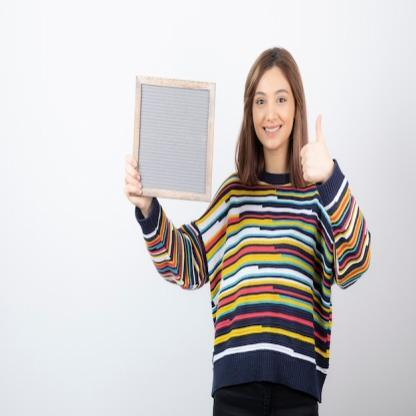thumb_up: (298, 109, 332, 186)
